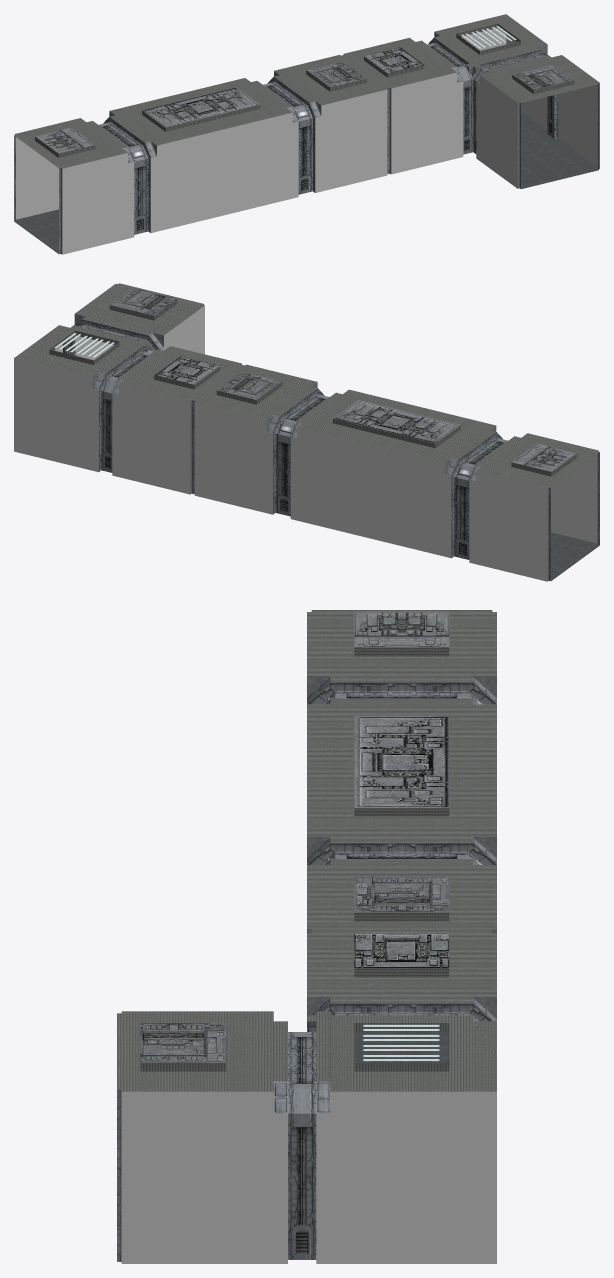
The model's file is poi_all_impl_bunker_small_outpost_s01_r17_hall2_mesh.fbx.
3 views of the same model, one above another, from view 1: azimuth 30°, elevation 25°; view 2: azimuth 150°, elevation 25°; view 3: azimuth 270°, elevation 25° (orthographic). The views are drawn at different scales.
Visible parts, largest first — view 1: mesh_node; view 2: mesh_node; view 3: mesh_node.
Part boxes in pixels (x1,y1,x2,y2): mesh_node: [14, 14, 599, 254]; mesh_node: [14, 283, 599, 581]; mesh_node: [117, 610, 496, 1263].
Bounding box in the file's own units: 24 × 4.2 × 8.
